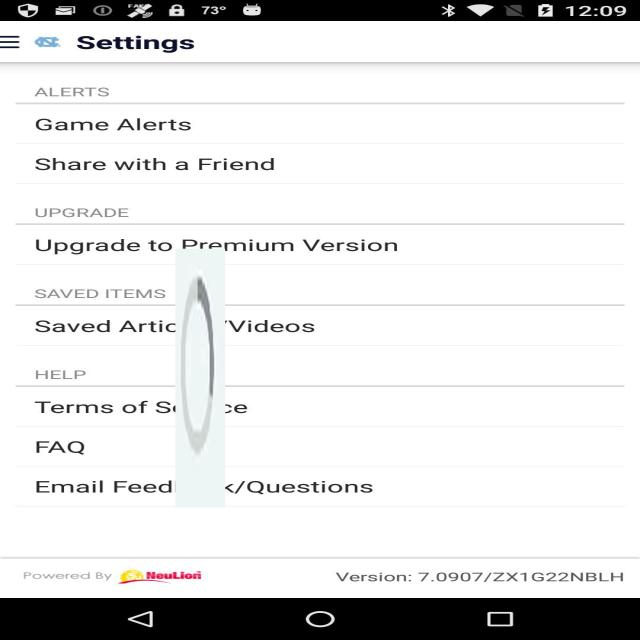misdirection: (176, 248, 226, 508)
